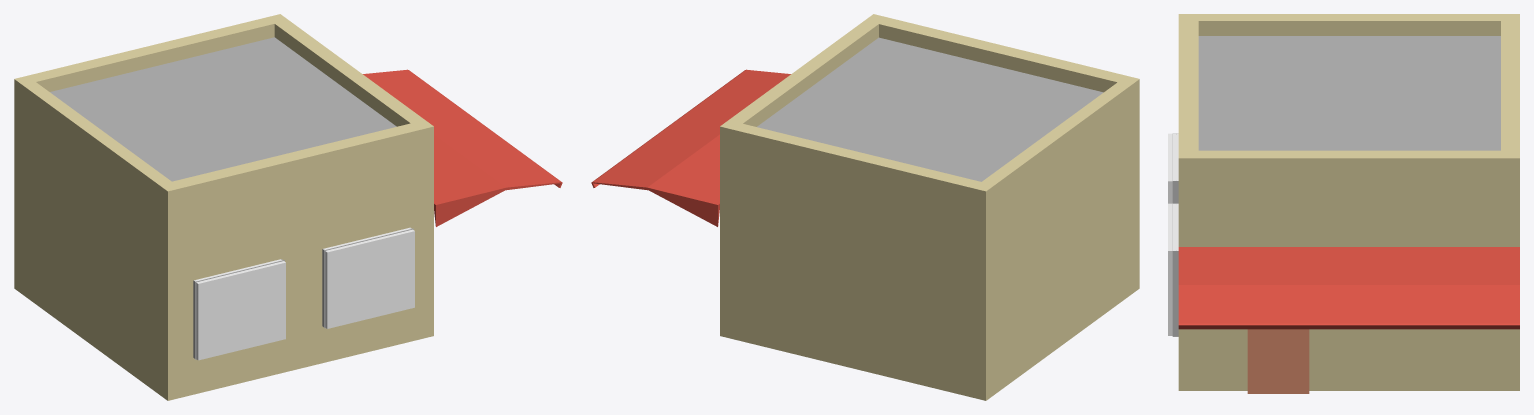
Rendered from cafe.fbx.
3 views of the same model, side by side, from view 1: azimuth 30°, elevation 25°; view 2: azimuth 150°, elevation 25°; view 3: azimuth 270°, elevation 25° (orthographic). The views are drawn at different scales.
Parts seen in each view (by area): view 1: Cube, Cube.002, Cube.001, CTRL_Hole.001, CTRL_Hole.002; view 2: Cube, Cube.002, Cube.001; view 3: Cube, Cube.002, Cube.001, CTRL_Hole, CTRL_Hole.001, WindowFrame, CTRL_Hole.002.
Boxes of the visible parts, left/top/right/bottom form: Cube: left=14, top=14, right=433, bottom=400; Cube.002: left=50, top=37, right=396, bottom=181; Cube.001: left=363, top=69, right=562, bottom=226; CTRL_Hole.001: left=323, top=227, right=414, bottom=328; CTRL_Hole.002: left=194, top=259, right=285, bottom=360; Cube: left=720, top=14, right=1139, bottom=400; Cube.002: left=757, top=37, right=1103, bottom=181; Cube.001: left=591, top=69, right=790, bottom=226; Cube: left=1178, top=14, right=1519, bottom=390; Cube.002: left=1198, top=36, right=1500, bottom=150; Cube.001: left=1178, top=247, right=1519, bottom=329; CTRL_Hole: left=1247, top=329, right=1309, bottom=393; CTRL_Hole.001: left=1168, top=203, right=1178, bottom=335; WindowFrame: left=1172, top=203, right=1178, bottom=336; CTRL_Hole.002: left=1168, top=133, right=1178, bottom=203.
Bounding box in the file's own units: 148 × 77.01 × 103.
